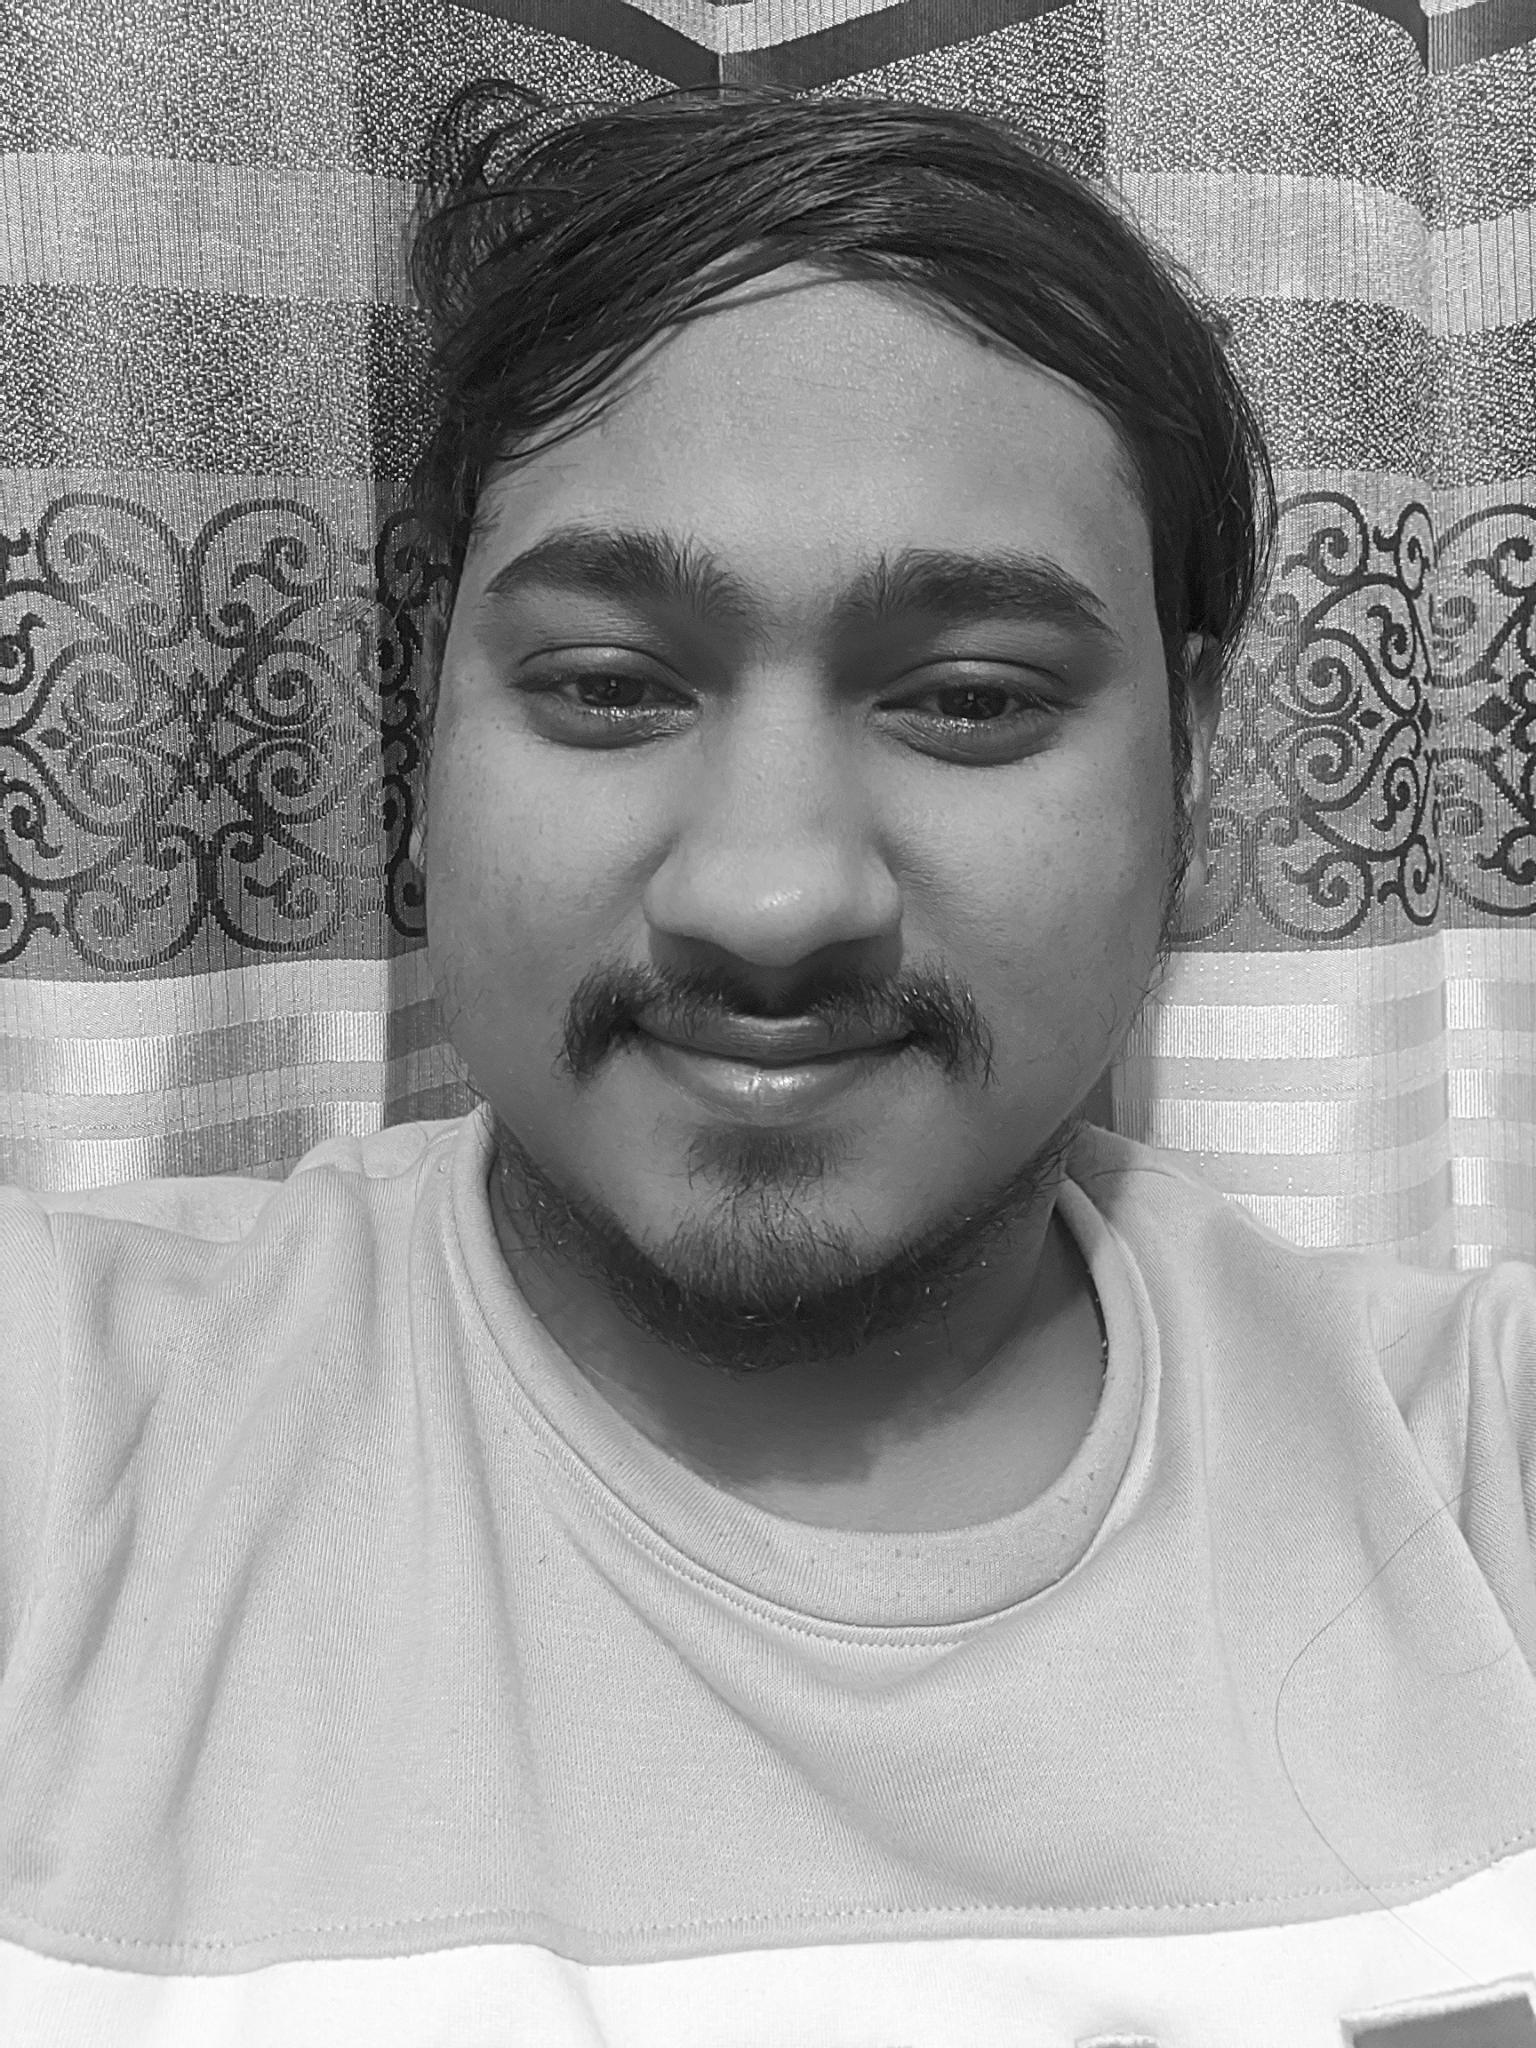Happy: (452, 393, 1155, 1263)
